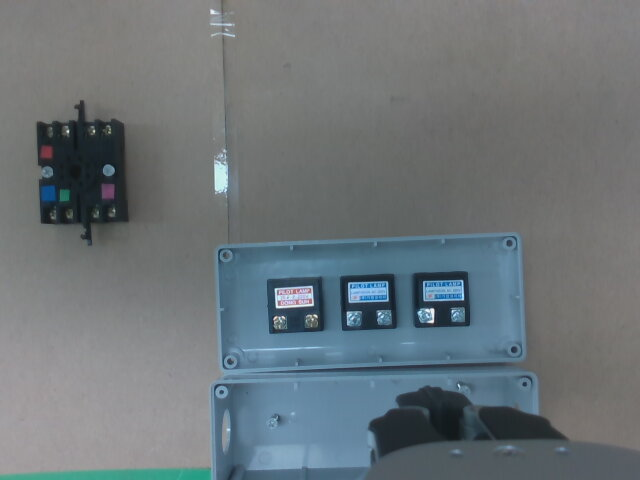L1(1): (273, 316, 286, 329)
L1(2): (304, 314, 318, 328)
L2(1): (346, 310, 363, 327)
L2(2): (377, 310, 393, 326)
L3(1): (418, 308, 434, 323)
L3(2): (450, 308, 465, 322)
